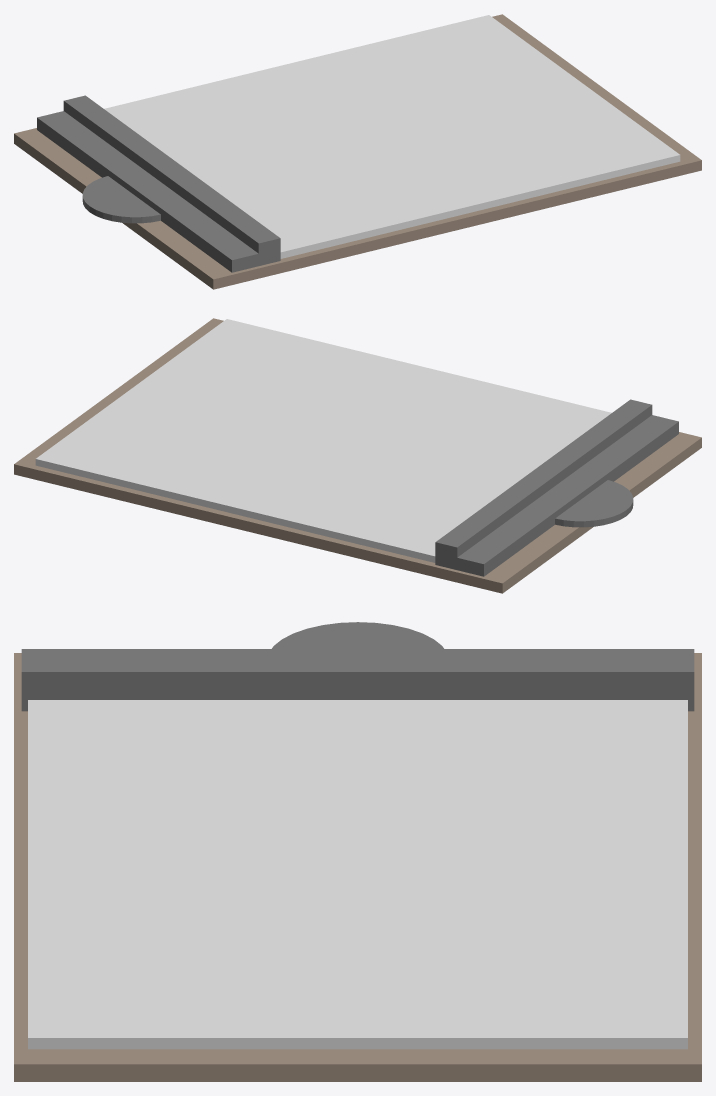
Rendered from clipboard.fbx.
3 renders of one model, top to bottom at view 1: azimuth 30°, elevation 25°; view 2: azimuth 150°, elevation 25°; view 3: azimuth 270°, elevation 25°, orthographic. The views are drawn at different scales.
Visible parts, largest first — view 1: Clipboard; view 2: Clipboard; view 3: Clipboard.
Part boxes in pixels (<box>): Clipboard: <box>14,14,701,289</box>; Clipboard: <box>14,318,701,593</box>; Clipboard: <box>14,622,701,1081</box>.
Bounding box in the file's own units: 4.45 × 0.2737 × 3.
